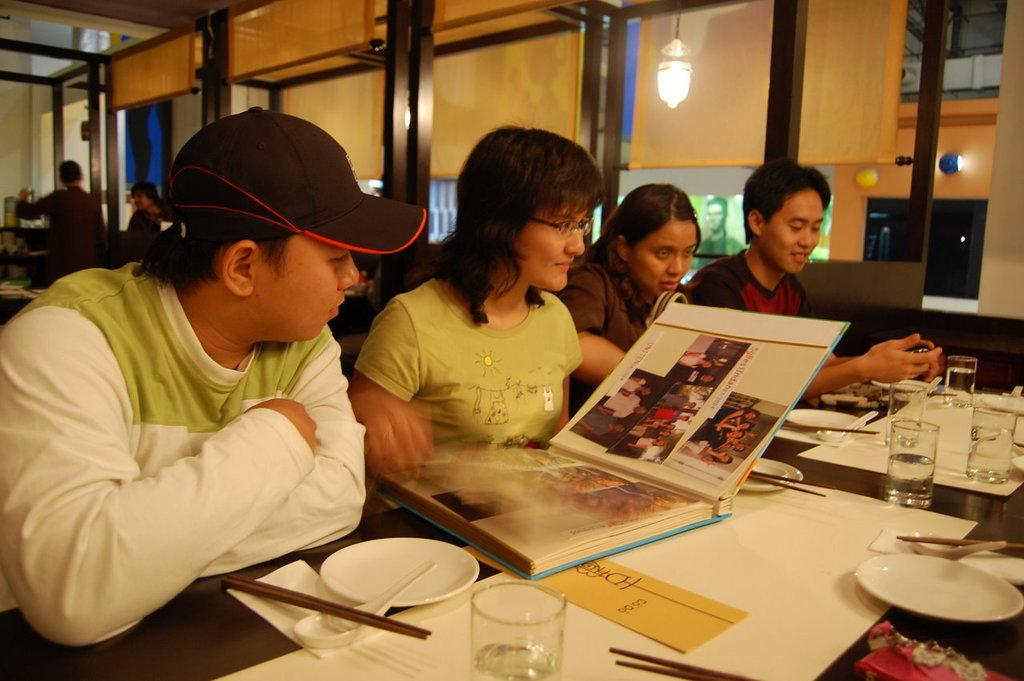Hat: (166, 106, 428, 254)
